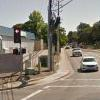Car: (70, 45, 100, 78)
